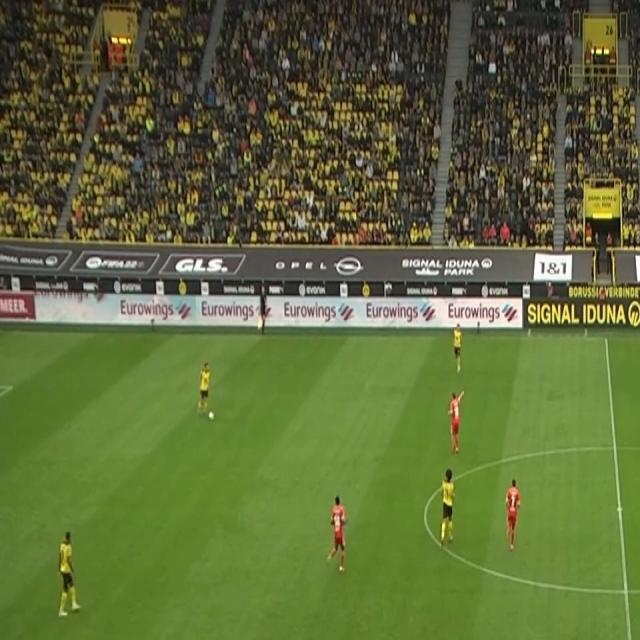ball: (208, 409, 215, 423)
